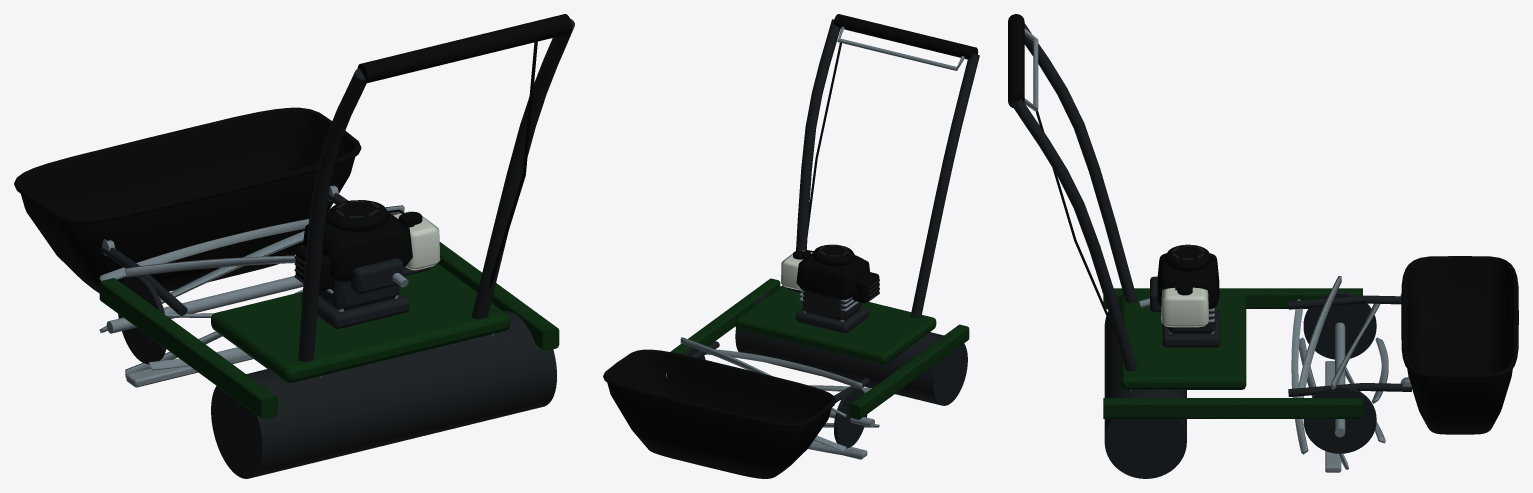
File: CommercialReelMower.gltf
The picture shows the model from 3 angles, left to right: view 1: azimuth 30°, elevation 25°; view 2: azimuth 150°, elevation 25°; view 3: azimuth 270°, elevation 25°; orthographic projection. The views are drawn at different scales.
Visible parts, largest first — view 1: CommercialReelMower__Body, CommercialReelMower__Wheel_Drum, CommercialReelMower__Wheel_Reel; view 2: CommercialReelMower__Body, CommercialReelMower__Wheel_Drum, CommercialReelMower__Wheel_Reel; view 3: CommercialReelMower__Body, CommercialReelMower__Wheel_Reel, CommercialReelMower__Wheel_Drum.
Part boxes in pixels (x1=…): CommercialReelMower__Body: x1=14, y1=14, x2=574, y2=419; CommercialReelMower__Wheel_Drum: x1=211, y1=311, x2=556, y2=478; CommercialReelMower__Wheel_Reel: x1=99, y1=205, x2=404, y2=377; CommercialReelMower__Body: x1=603, y1=14, x2=979, y2=478; CommercialReelMower__Wheel_Drum: x1=735, y1=293, x2=967, y2=405; CommercialReelMower__Wheel_Reel: x1=680, y1=337, x2=879, y2=457; CommercialReelMower__Body: x1=1008, y1=14, x2=1518, y2=472; CommercialReelMower__Wheel_Reel: x1=1291, y1=276, x2=1388, y2=469; CommercialReelMower__Wheel_Drum: x1=1104, y1=303, x2=1186, y2=478.
Bounding box in the file's own units: 0.7 × 1 × 1.26.
1 material, 1 textured.
